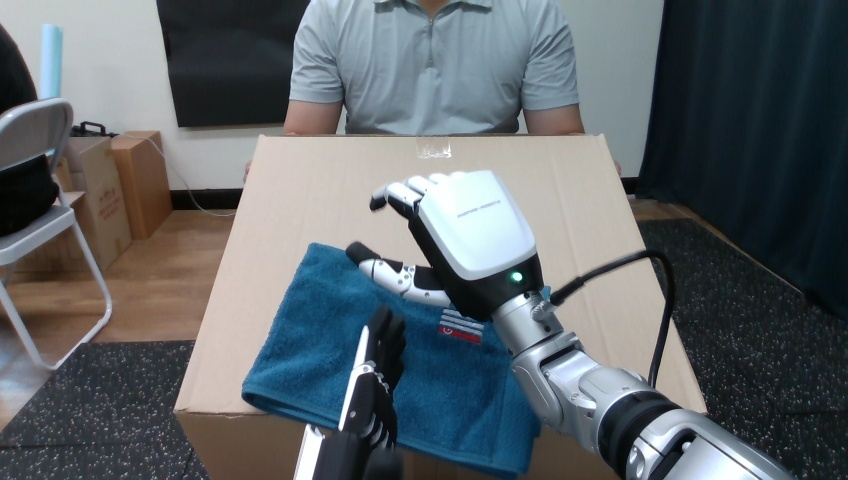left robot hand: (346, 170, 791, 479), (555, 257, 666, 380)
